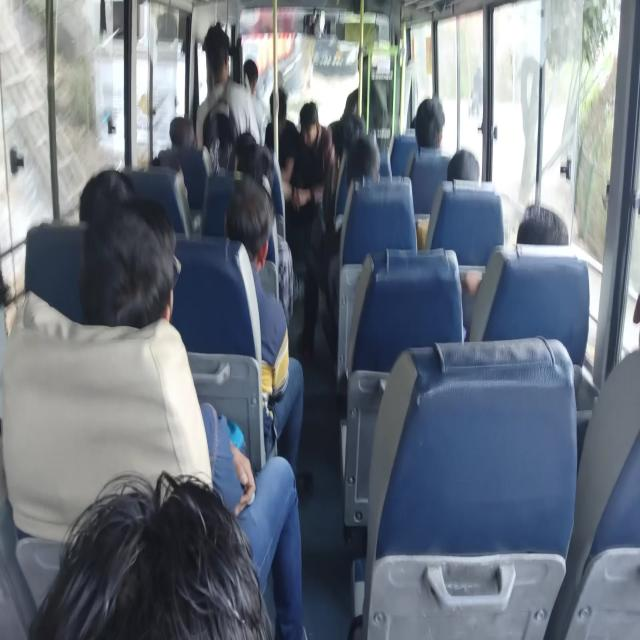person: (57, 448, 304, 640), (89, 207, 173, 396), (0, 250, 38, 366), (517, 201, 564, 271), (231, 192, 271, 270), (80, 177, 124, 231), (608, 266, 640, 340), (232, 148, 274, 199), (346, 142, 388, 190), (453, 142, 489, 196), (419, 101, 451, 161), (207, 32, 239, 89), (147, 150, 185, 189), (295, 95, 323, 144), (266, 84, 292, 128), (175, 121, 206, 153), (234, 124, 258, 155), (343, 114, 368, 134), (238, 65, 256, 87), (407, 114, 423, 123)
